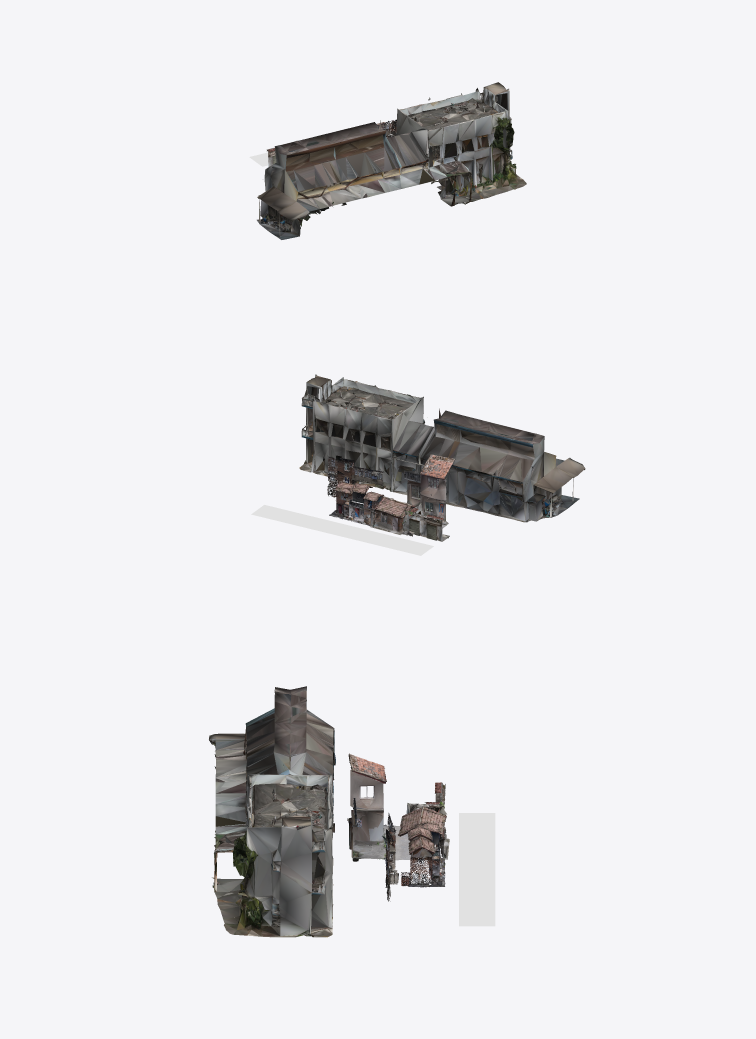
File: Outside.glb
3 renders of one model, top to bottom at view 1: azimuth 30°, elevation 25°; view 2: azimuth 150°, elevation 25°; view 3: azimuth 270°, elevation 25°, orthographic. The views are drawn at different scales.
Parts seen in each view (by area): view 1: Building_Old; view 2: Building_Old, Plane.001, re234.002, xiamian 100wan, meshNode.001, Scan Old Brick Building.001, hhugu; view 3: Building_Old, Plane.001, re234.002, xiamian 100wan, Scan Old Brick Building.001, meshNode.001.
Boxes of the visible parts, x1,y1,x2,y2 form: Building_Old: (257,82,526,239); Building_Old: (299,374,585,522); Plane.001: (251,505,433,555); re234.002: (403,454,455,528); xiamian 100wan: (329,481,383,525); meshNode.001: (327,456,384,501); Scan Old Brick Building.001: (369,496,415,536); hhugu: (402,502,449,541); Building_Old: (209,686,335,937); Plane.001: (459,813,495,926); re234.002: (347,753,427,861); xiamian 100wan: (401,821,445,887); Scan Old Brick Building.001: (398,805,449,859); meshNode.001: (382,813,398,901).
Bounding box in the file's own units: 152 × 29.46 × 152.
Materials: 117 (115 with a texture image).
